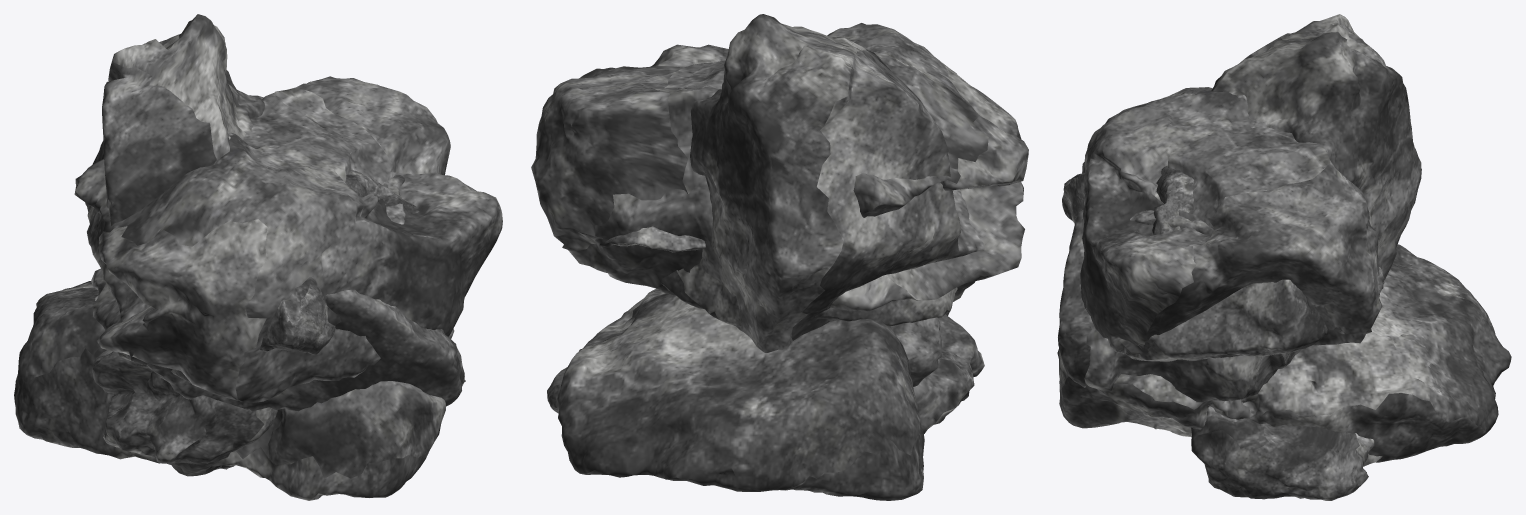
The model's file is rocks.glb.
3 views of the same model, side by side, from view 1: azimuth 30°, elevation 25°; view 2: azimuth 150°, elevation 25°; view 3: azimuth 270°, elevation 25° (orthographic). The views are drawn at different scales.
Parts seen in each view (by area): view 1: rock_big_1, rock_big_2, rock_big_3, rock_big_4, rock_medium_3, rock_medium_2, rock_medium_1; view 2: rock_big_2, rock_big_3, rock_big_1, rock_big_4, rock_medium_1, rock_medium_3; view 3: rock_big_1, rock_big_3, rock_big_2, rock_big_4, rock_medium_1, rock_medium_2, rock_medium_3.
Boxes of the visible parts, x1=… form: rock_big_1: x1=74, y1=76, x2=502, y2=402; rock_big_2: x1=85, y1=14, x2=465, y2=411; rock_big_3: x1=14, y1=281, x2=445, y2=500; rock_big_4: x1=92, y1=350, x2=277, y2=476; rock_medium_3: x1=259, y1=276, x2=335, y2=355; rock_medium_2: x1=345, y1=170, x2=419, y2=214; rock_medium_1: x1=113, y1=174, x2=454, y2=382; rock_big_2: x1=690, y1=14, x2=984, y2=352; rock_big_3: x1=556, y1=288, x2=924, y2=500; rock_big_1: x1=531, y1=23, x2=1028, y2=311; rock_big_4: x1=547, y1=311, x2=984, y2=433; rock_medium_1: x1=661, y1=263, x2=957, y2=327; rock_medium_3: x1=599, y1=226, x2=705, y2=252; rock_big_1: x1=1080, y1=87, x2=1382, y2=345; rock_big_3: x1=1057, y1=244, x2=1511, y2=462; rock_big_2: x1=1058, y1=14, x2=1421, y2=402; rock_big_4: x1=1191, y1=406, x2=1382, y2=500; rock_medium_1: x1=1108, y1=210, x2=1328, y2=361; rock_medium_2: x1=1152, y1=165, x2=1196, y2=235; rock_medium_3: x1=1062, y1=172, x2=1384, y2=296.
Size of the model in its own units: 0.4884 by 0.5141 by 0.5357.
2 materials, 2 textured.
